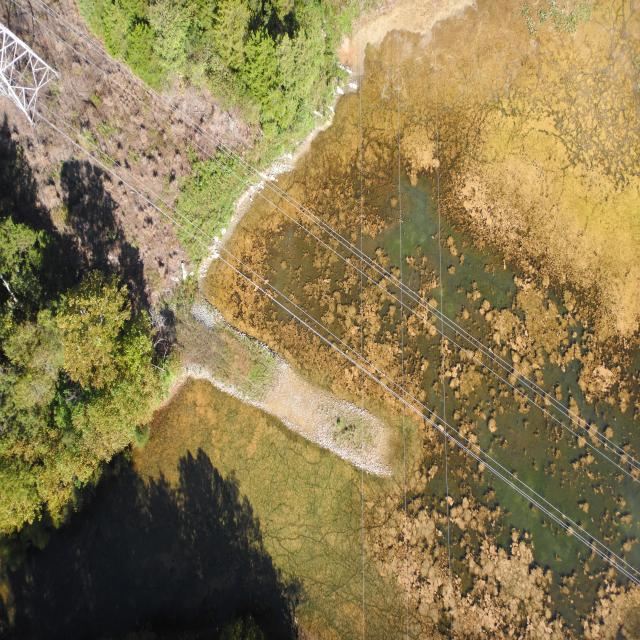Area of Interest: (4, 235, 148, 555), (113, 11, 340, 130)
